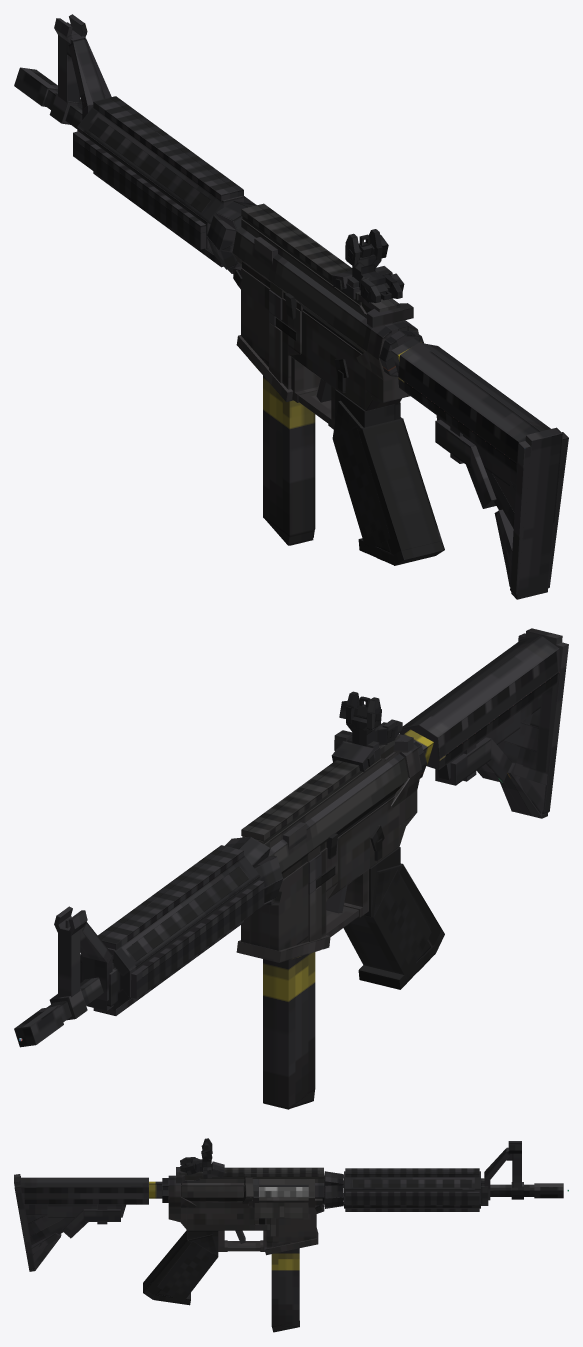
3 renders of one model, top to bottom at view 1: azimuth 30°, elevation 25°; view 2: azimuth 150°, elevation 25°; view 3: azimuth 270°, elevation 25°, orthographic. The views are drawn at different scales.
Visible parts, largest first — view 1: gun, magazine, bone4, bone5, frontsight, bone2, rearsight, rearsightflipped, bone6, action; view 2: gun, magazine, bone4, bone5, frontsight, rearsight, bone2, bone6, bone8; view 3: gun, magazine, bone4, frontsight, bolt, bone7, bone2, rearsightflipped, rearsight, bone8.
Boxes of the visible parts, x1,y1,x2,y2 form: gun: (14,67,568,599); magazine: (263,375,315,545); bone4: (93,96,243,267); bone5: (73,131,206,249); frontsight: (54,14,111,119); bone2: (236,227,421,376); rearsight: (345,229,388,286); rearsightflipped: (359,271,404,303); bone6: (206,215,241,269); action: (361,303,413,327); gun: (14,628,568,1047); magazine: (263,952,315,1109); bone4: (93,845,243,1015); bone5: (131,880,264,998); frontsight: (54,906,112,1001); rearsight: (339,691,381,746); bone2: (261,740,421,856); bone6: (252,856,283,902); bone8: (225,836,270,867); gun: (14,1161,563,1305); magazine: (271,1248,299,1332); bone4: (345,1168,479,1211); frontsight: (484,1141,521,1200); bolt: (259,1187,308,1197); bone7: (324,1185,343,1207); bone2: (162,1175,324,1202); rearsightflipped: (180,1157,208,1175); rearsight: (201,1138,212,1169); bone8: (324,1171,343,1185).
Bounding box in the file's own units: 42.46 × 208 × 557.
